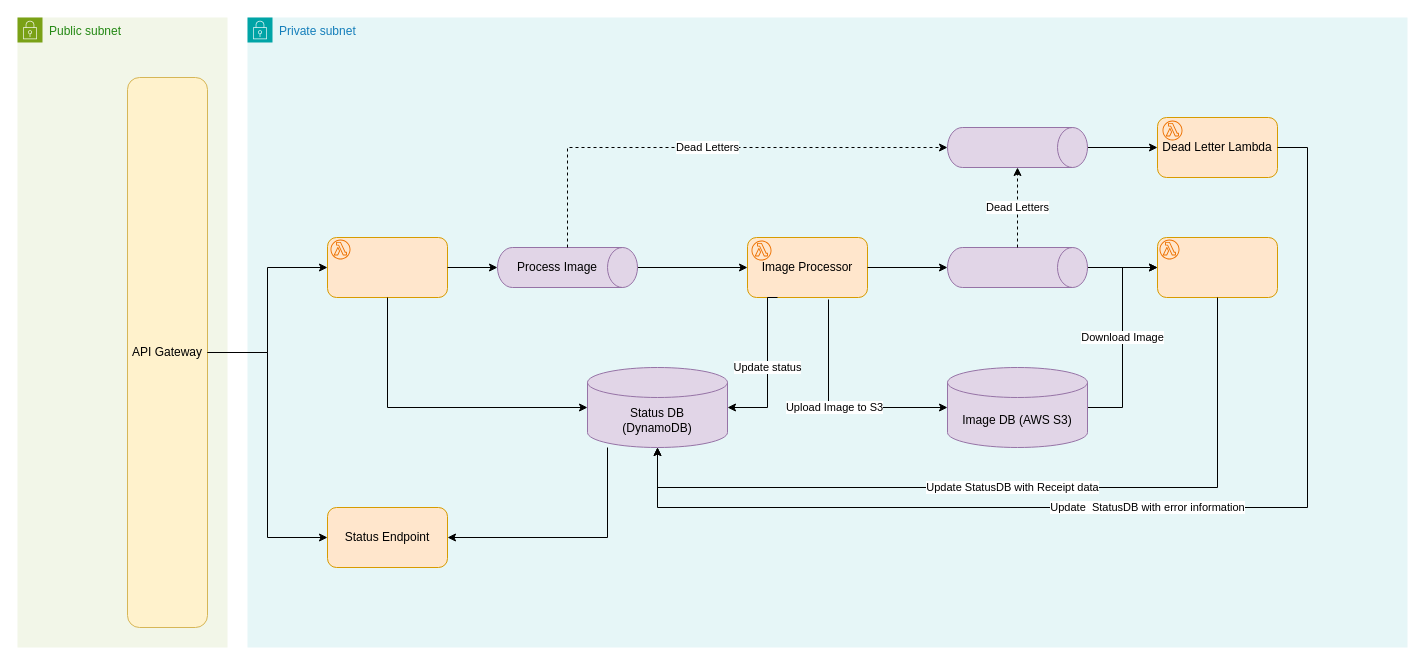
This 1425x665 diagram has some shape labels left out. Here are the shapes that lost their labels. From the top down, the box of each, then its label:
(946, 126, 1088, 168): Dead Letter Topic (SQS)
(326, 236, 448, 298): Extract Endpoint
(946, 246, 1088, 288): Extract Image
(1156, 236, 1278, 298): Image Feature Extractor
